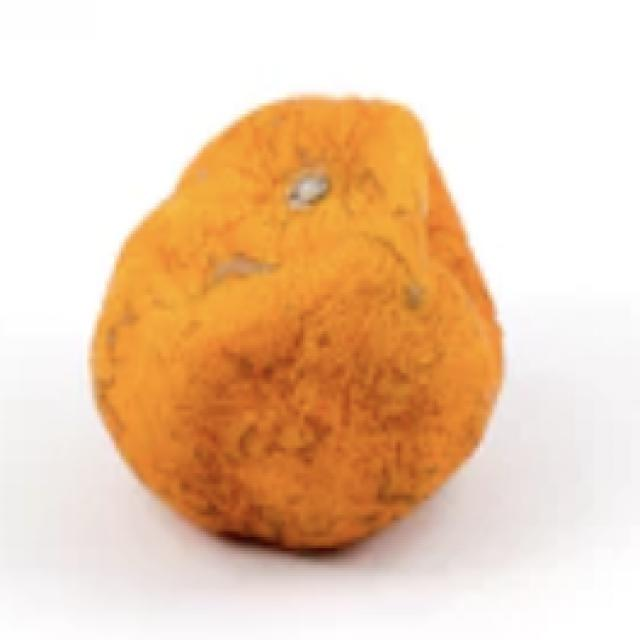rotten-orange: (88, 98, 502, 552)
